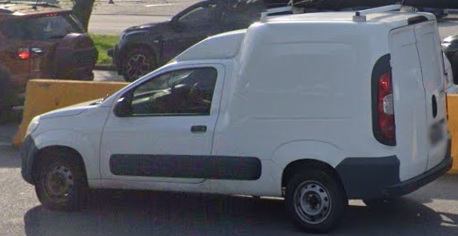car: (17, 14, 451, 233)
